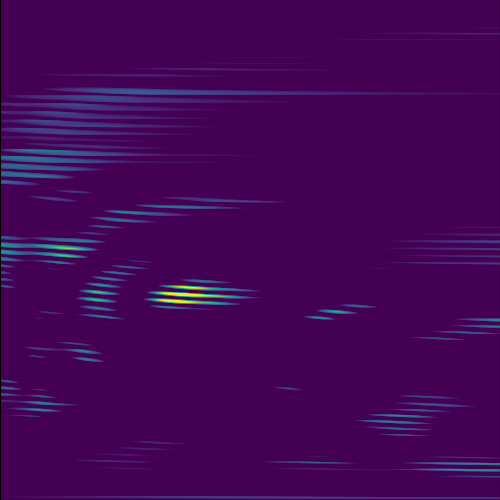semblance: (138, 276, 261, 314)
